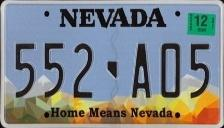0: (158, 41, 183, 100)
2: (71, 42, 98, 99)
5: (41, 40, 66, 99), (13, 41, 37, 99), (188, 42, 212, 100)
A: (129, 41, 154, 100)
